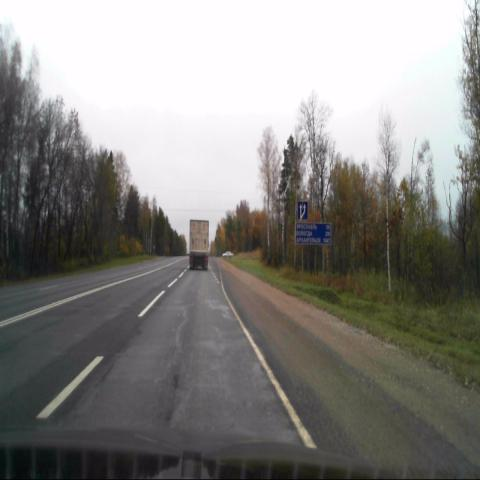5_15_3: (297, 201, 308, 220)
